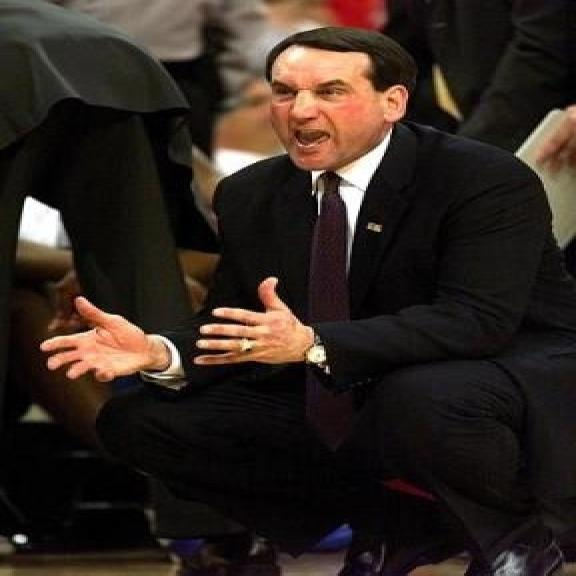face: (268, 50, 412, 175)
